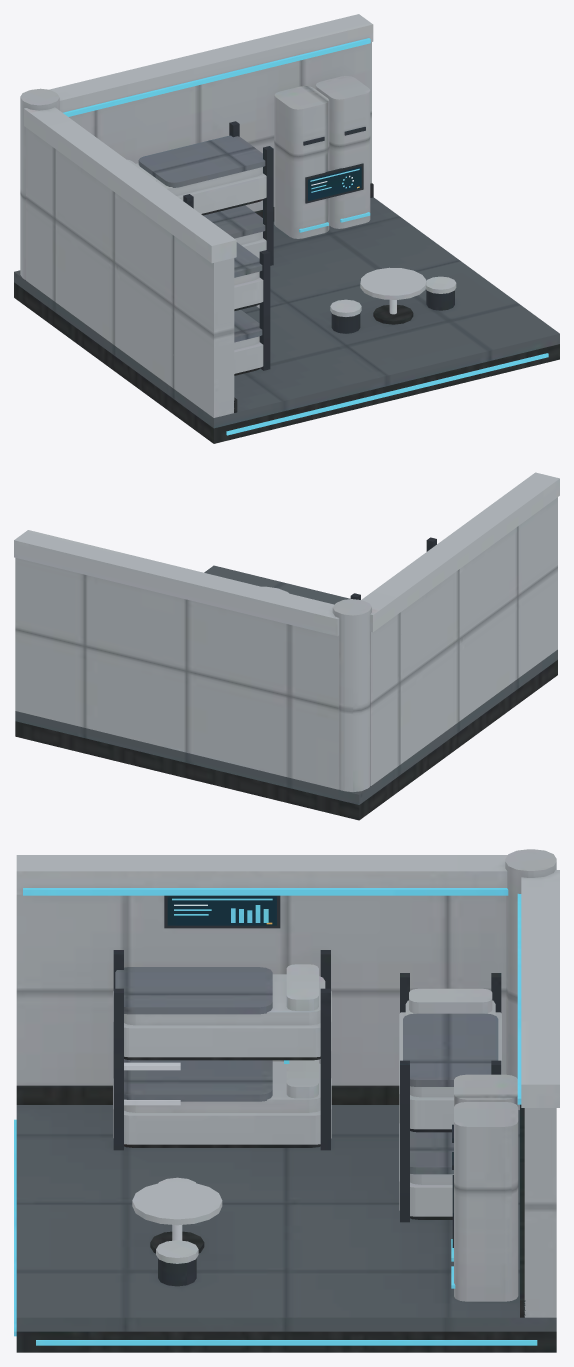
Rendered from enterprise_habitat_t1.glb.
3 renders of one model, top to bottom at view 1: azimuth 30°, elevation 25°; view 2: azimuth 150°, elevation 25°; view 3: azimuth 270°, elevation 25°, orthographic. The views are drawn at different scales.
Parts seen in each view (by area): view 1: te_enterprise_habitat_t1; view 2: te_enterprise_habitat_t1; view 3: te_enterprise_habitat_t1.
Boxes of the visible parts, left/top/right/bottom form: te_enterprise_habitat_t1: left=14, top=14, right=559, bottom=443; te_enterprise_habitat_t1: left=14, top=472, right=559, bottom=820; te_enterprise_habitat_t1: left=14, top=849, right=559, bottom=1352.
Size of the model in its own units: 0.849 by 0.472 by 0.849.
1 material, 1 textured.
